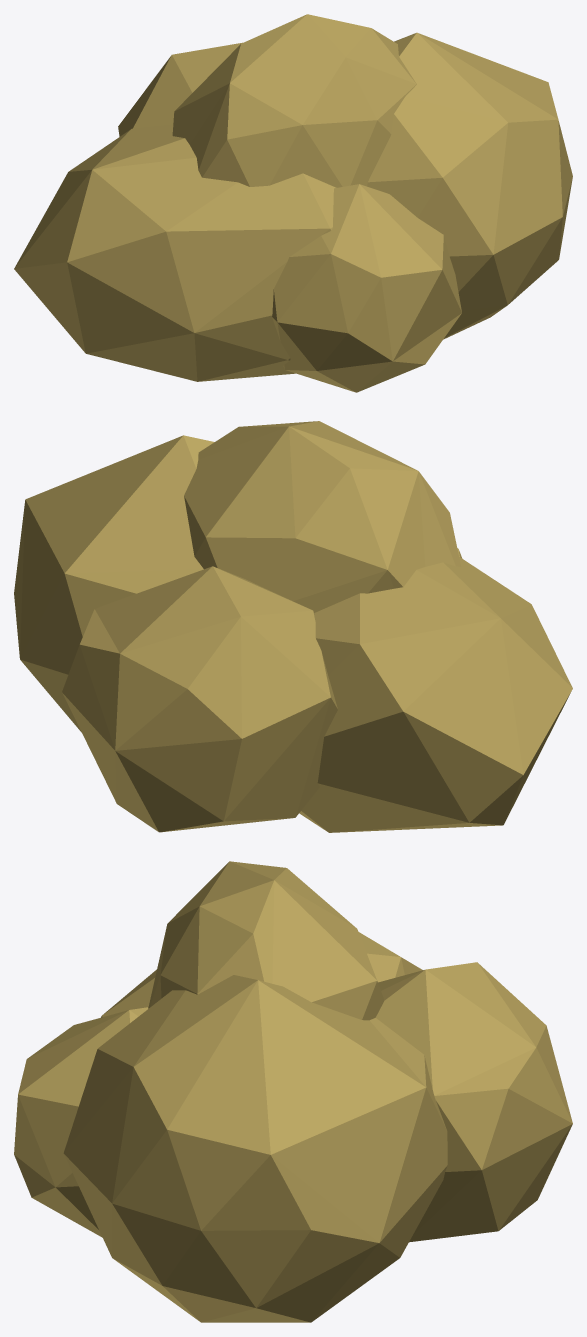
Rendered from Semak.fbx.
3 renders of one model, top to bottom at view 1: azimuth 30°, elevation 25°; view 2: azimuth 150°, elevation 25°; view 3: azimuth 270°, elevation 25°, orthographic. The views are drawn at different scales.
Visible parts, largest first — view 1: Icosphere.007; view 2: Icosphere.007; view 3: Icosphere.007.
Part boxes in pixels (x1,y1,x2,y2): Icosphere.007: (14,14,572,392); Icosphere.007: (14,421,572,832); Icosphere.007: (14,861,572,1322).
Size of the model in its own units: 421 by 276 by 365.
